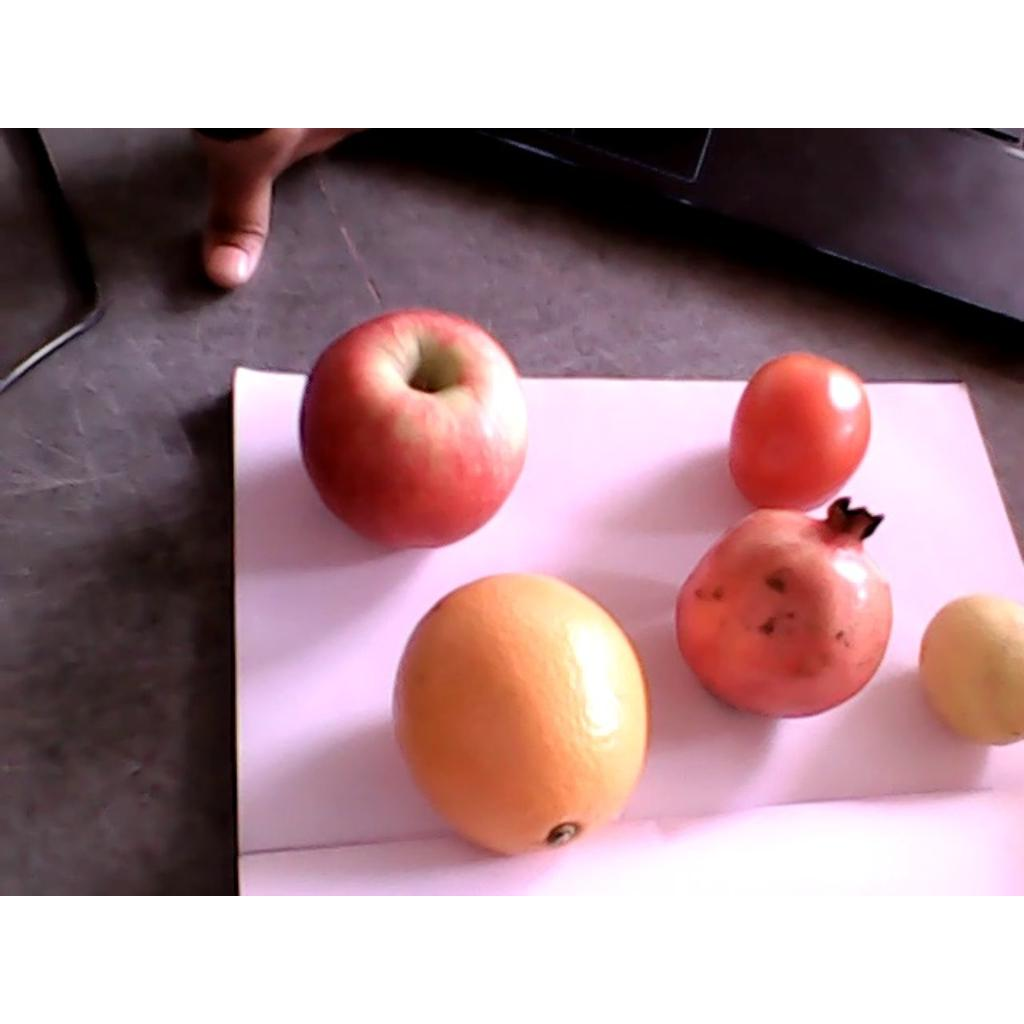apple: (301, 309, 529, 549)
lemon: (919, 595, 1022, 745)
orange: (391, 573, 648, 853)
pomegranate: (674, 495, 892, 719)
tomato: (732, 351, 872, 512)
